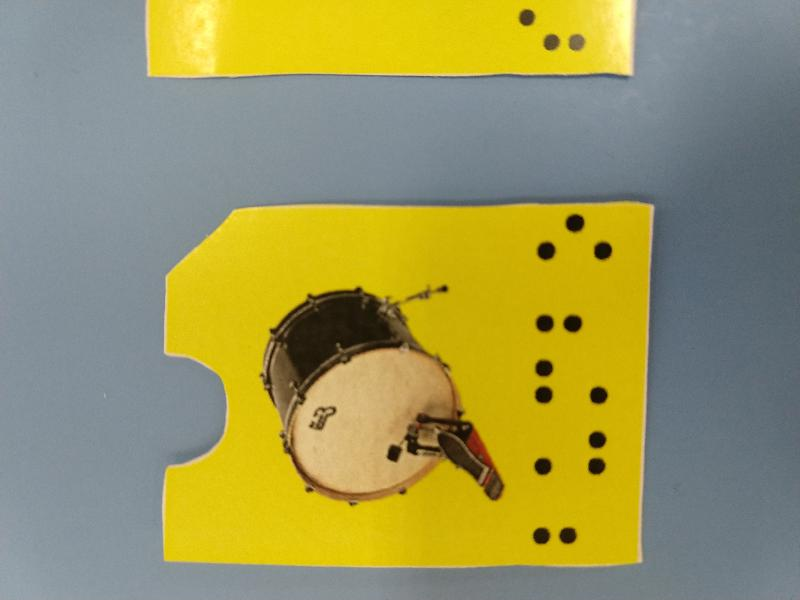bumbo: (152, 187, 653, 570)
